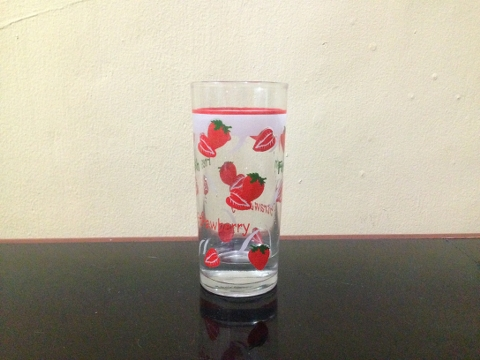tempat minum: (191, 80, 289, 298)
